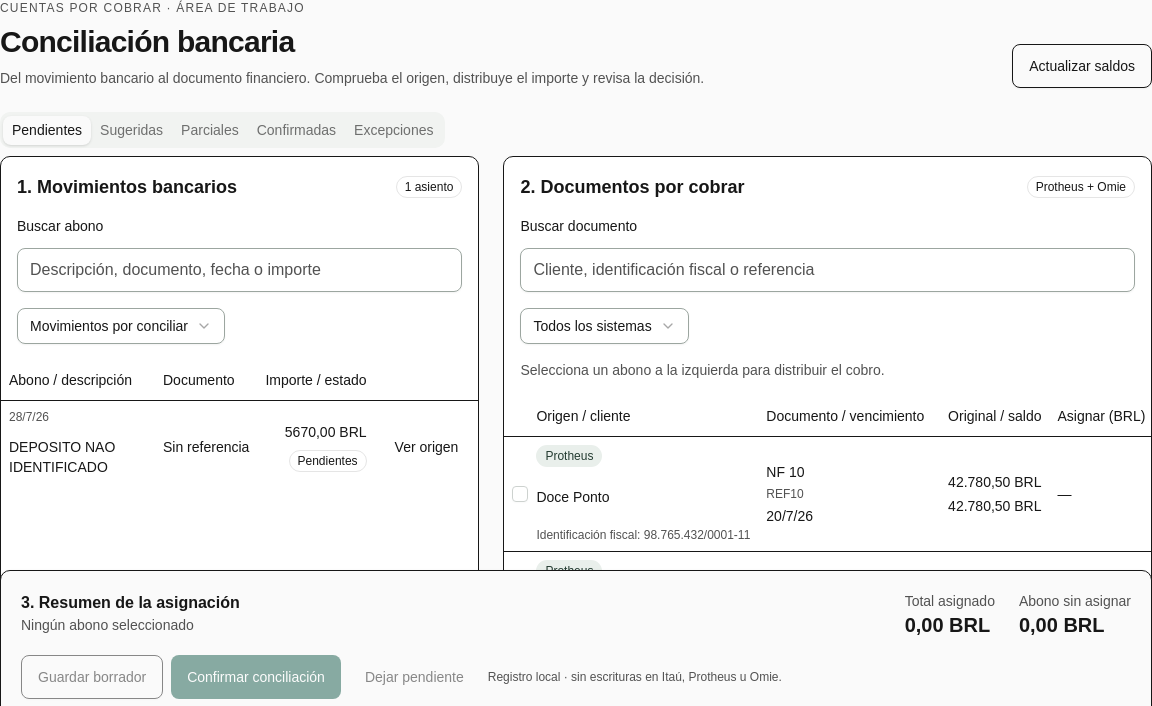
Test: formats reconciliation details in es and preserves original evidence
Press the mouse on the tab "Sugeridas" at (132, 130), box [91,116,172,144]
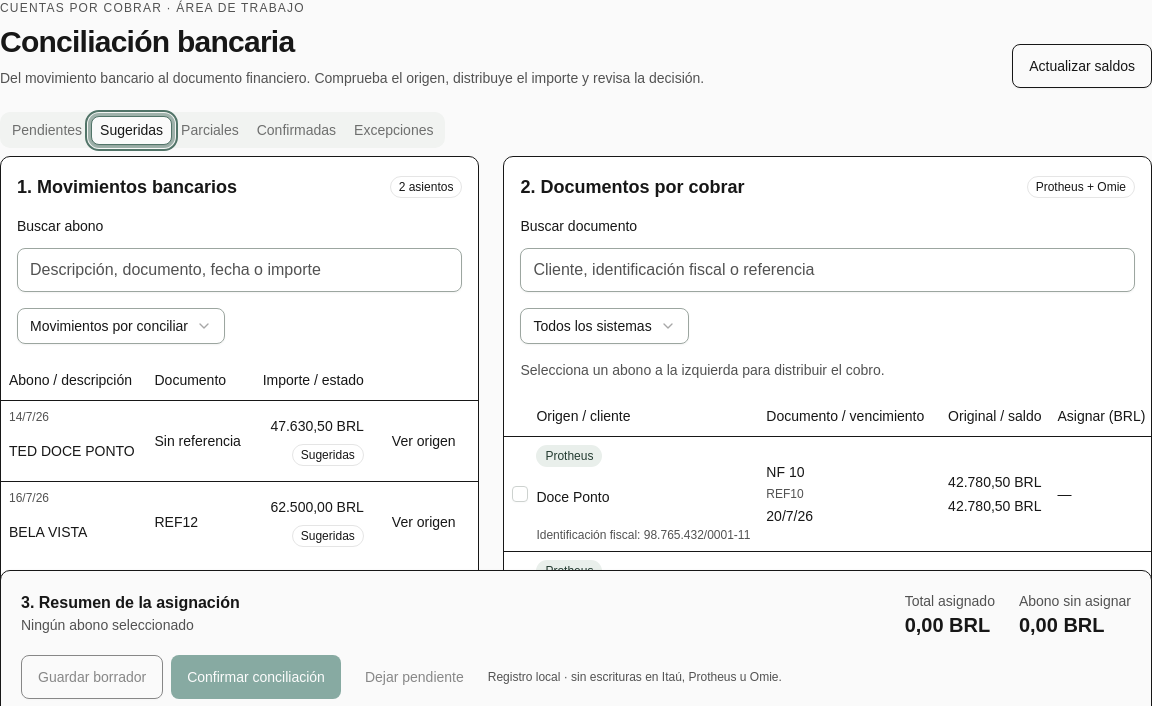
Click the button "Ver origen" in the row of "14/7/26" at (424, 441), box [380,419,468,463]
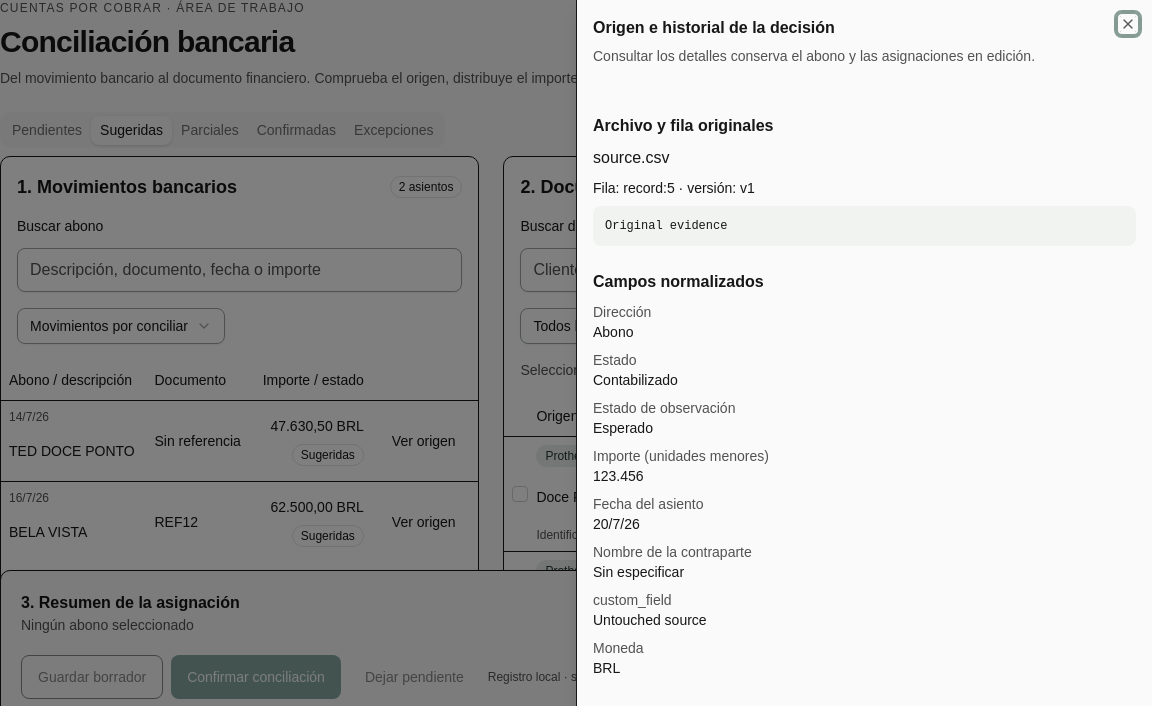
Check: the text "Original evidence" is shown, box [593,206,1136,246]
Check: the text "Abono" is shown, box [593,324,634,340]
Check: the text "Contabilizado" is shown, box [593,372,678,388]
